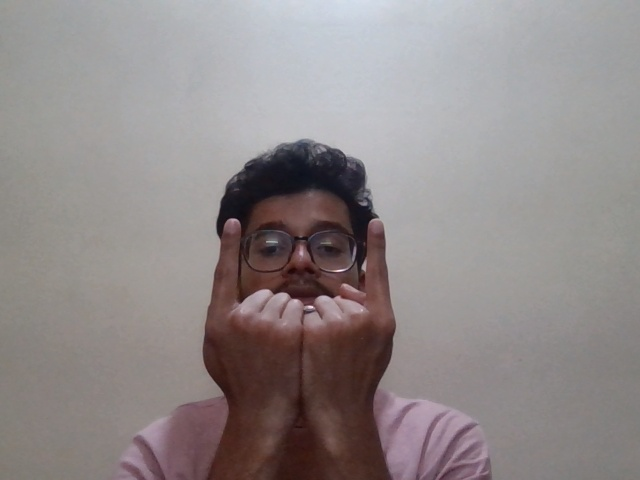when: (196, 204, 423, 395)
